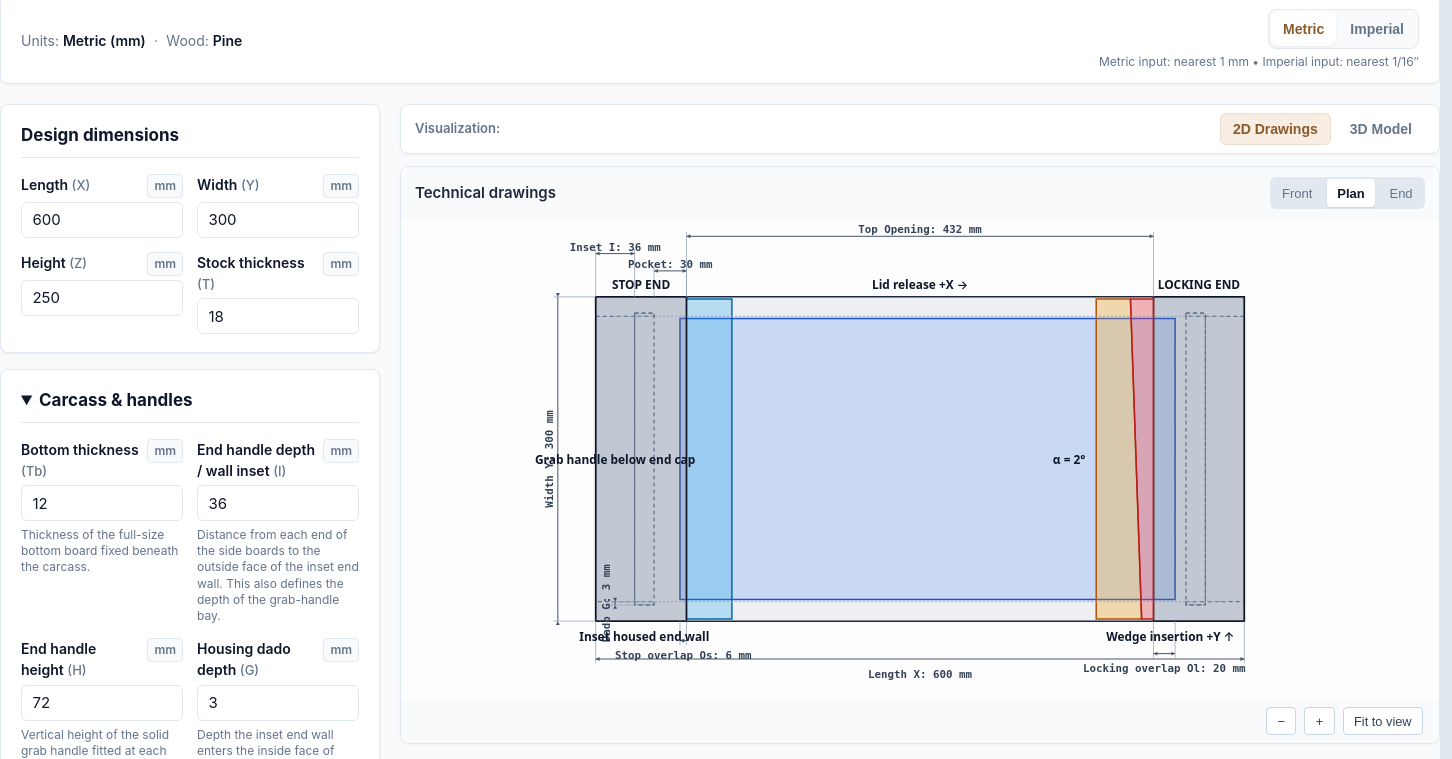
Test: DesignEditor Component › Requirement 51: updates calculated internal length, pocket depth, and release margin when editing end handle depth
Clear the field labelled "End handle depth / wall inset (I)": (278, 503) top-left (197, 485), bottom-right (359, 521)
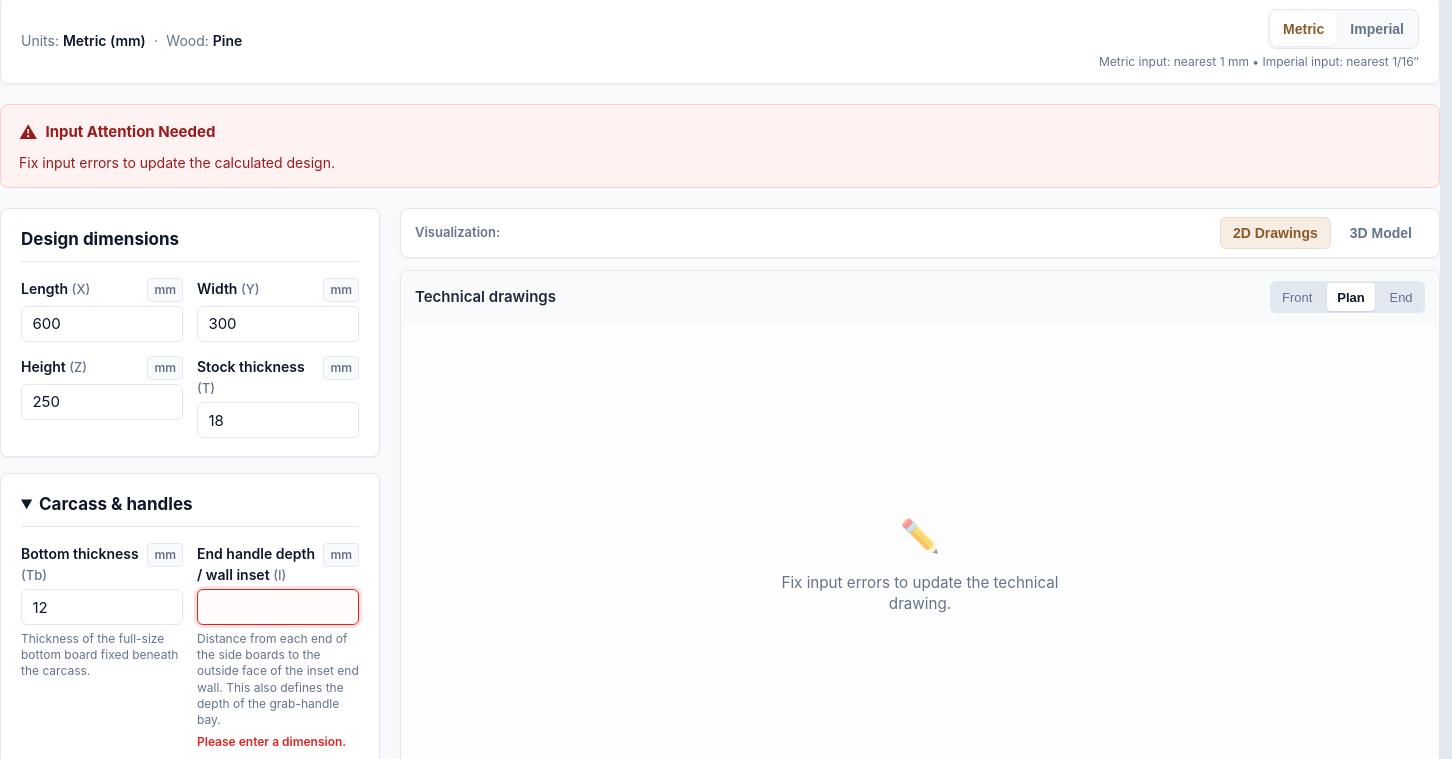
In the field labelled "End handle depth / wall inset (I)": (278, 607) top-left (197, 589), bottom-right (359, 625), type "37"
(page scrolled)
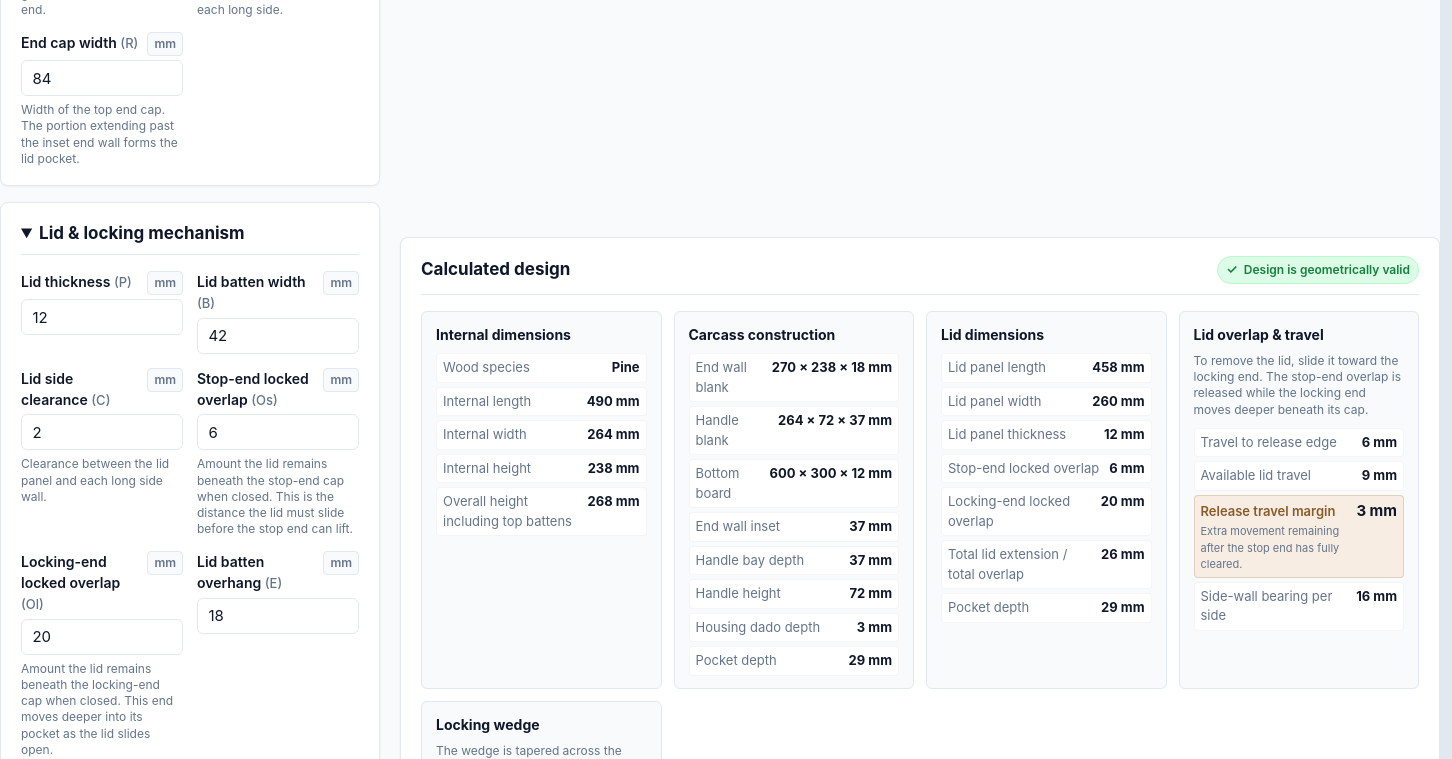
Now the text "490 mm" is shown, box top-left (587, 392), bottom-right (640, 411)
